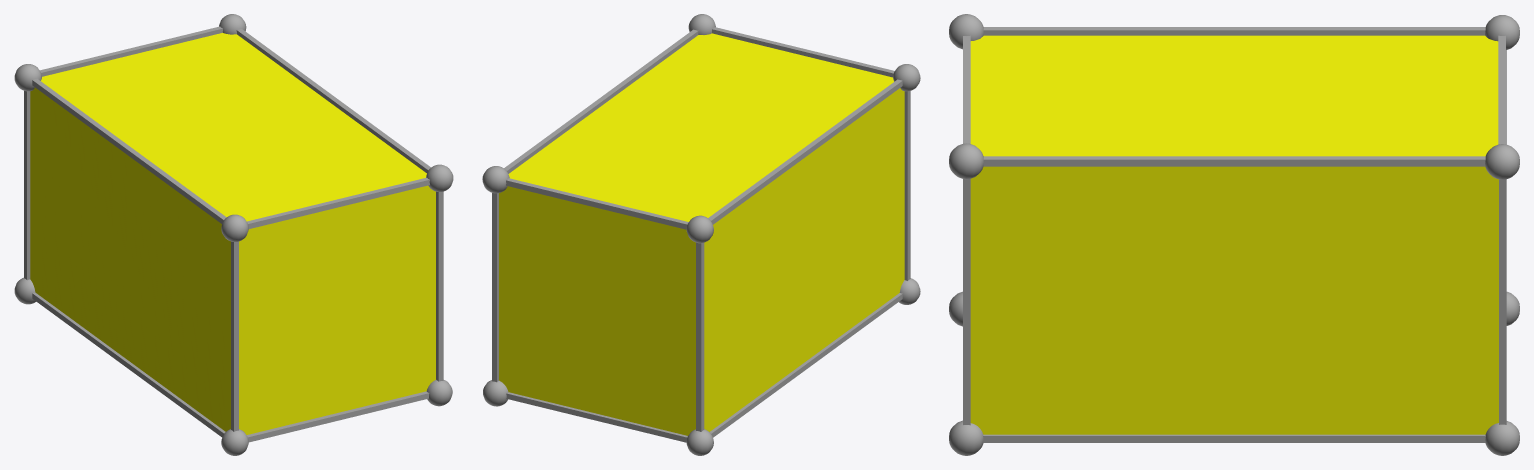
The model's file is yellor.fbx.
3 views of the same model, side by side, from view 1: azimuth 30°, elevation 25°; view 2: azimuth 150°, elevation 25°; view 3: azimuth 270°, elevation 25° (orthographic). The views are drawn at different scales.
Visible parts, largest first — view 1: pasted__pCube15; view 2: pasted__pCube15; view 3: pasted__pCube15.
Boxes of the visible parts, bbox=[...] form: pasted__pCube15: bbox=[14, 14, 453, 455]; pasted__pCube15: bbox=[482, 14, 920, 455]; pasted__pCube15: bbox=[949, 14, 1519, 455].
Bounding box in the file's own units: 19.1 × 19.07 × 31.87.
